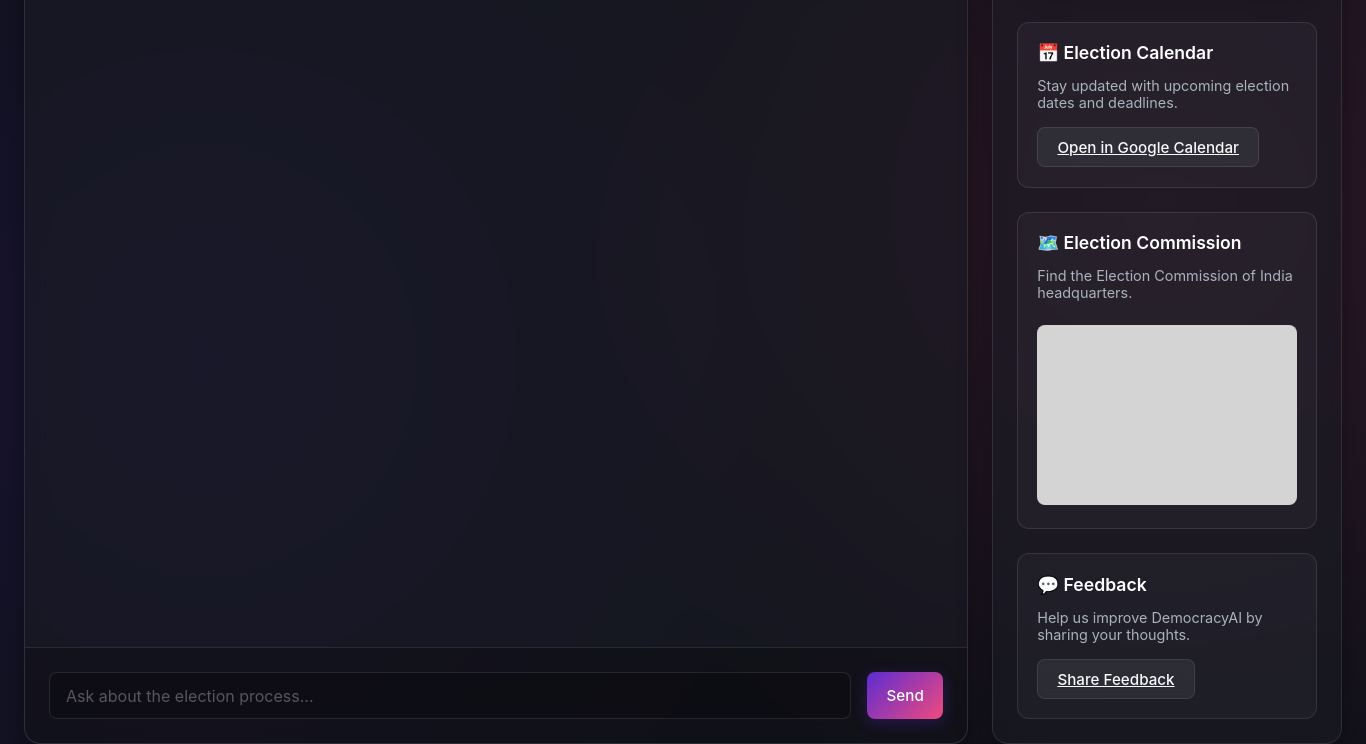
Test: DemocracyAI App › shows the bot response in the chat after sending
(page scrolled)
In the field with placeholder "Ask about the election process...": (450, 696) [49,672,851,719], type "How does the primary work?"
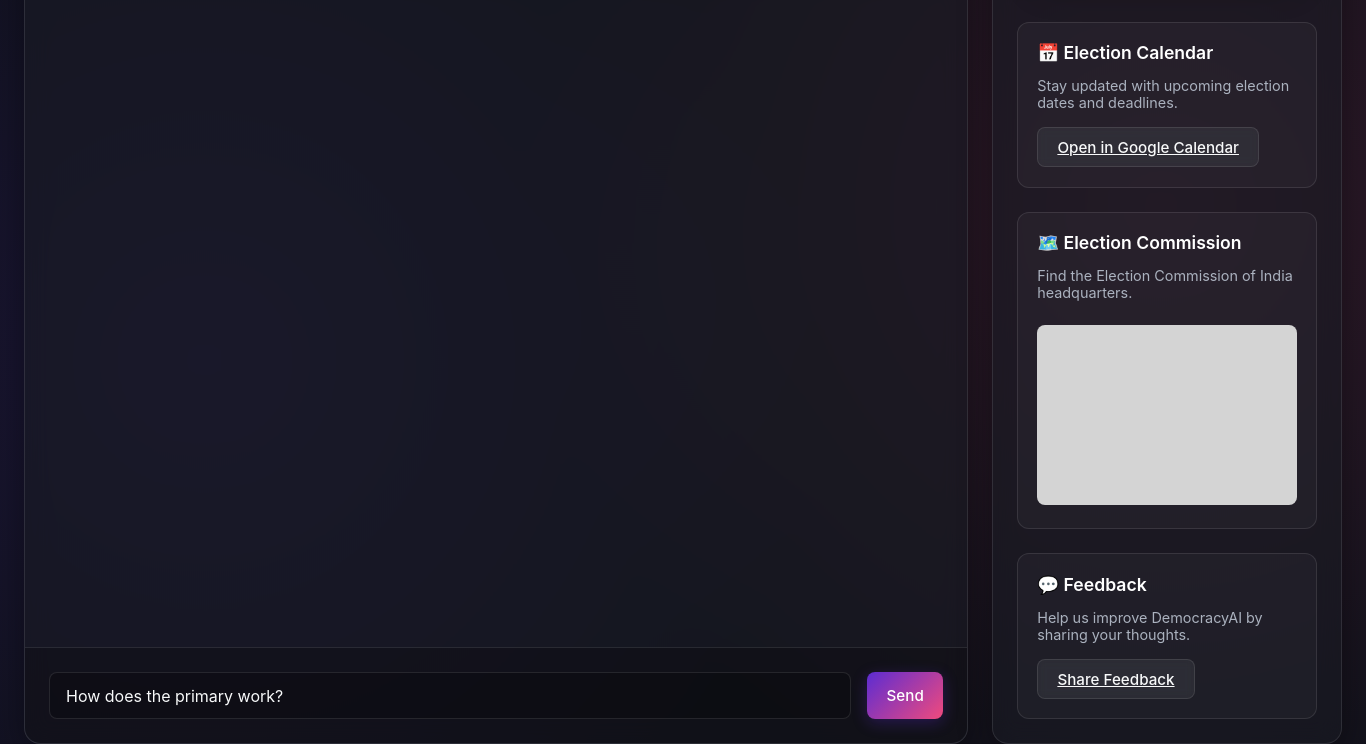
Submit the form with placeholder "Ask about the election process", box [49,672,943,719]
(page scrolled)
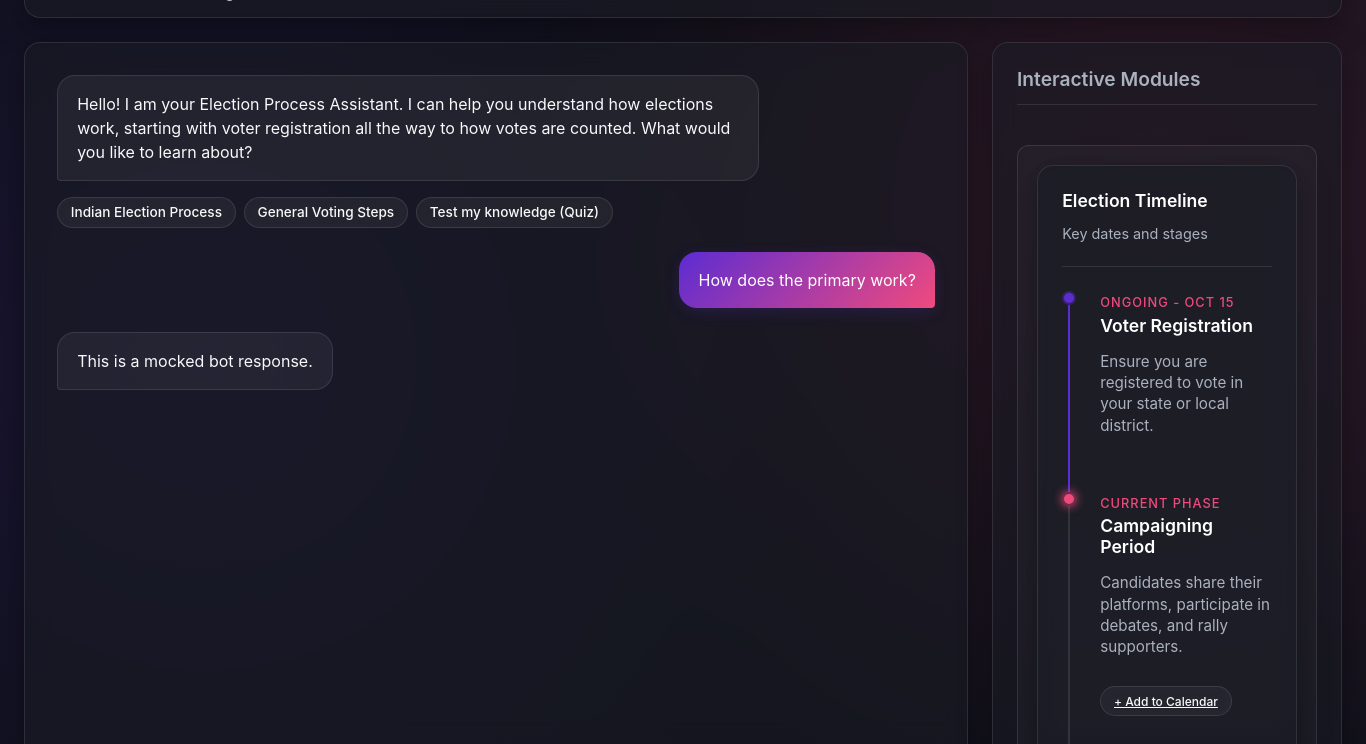
Expected: the text "This is a mocked bot response." is shown, [77,349,313,373]
